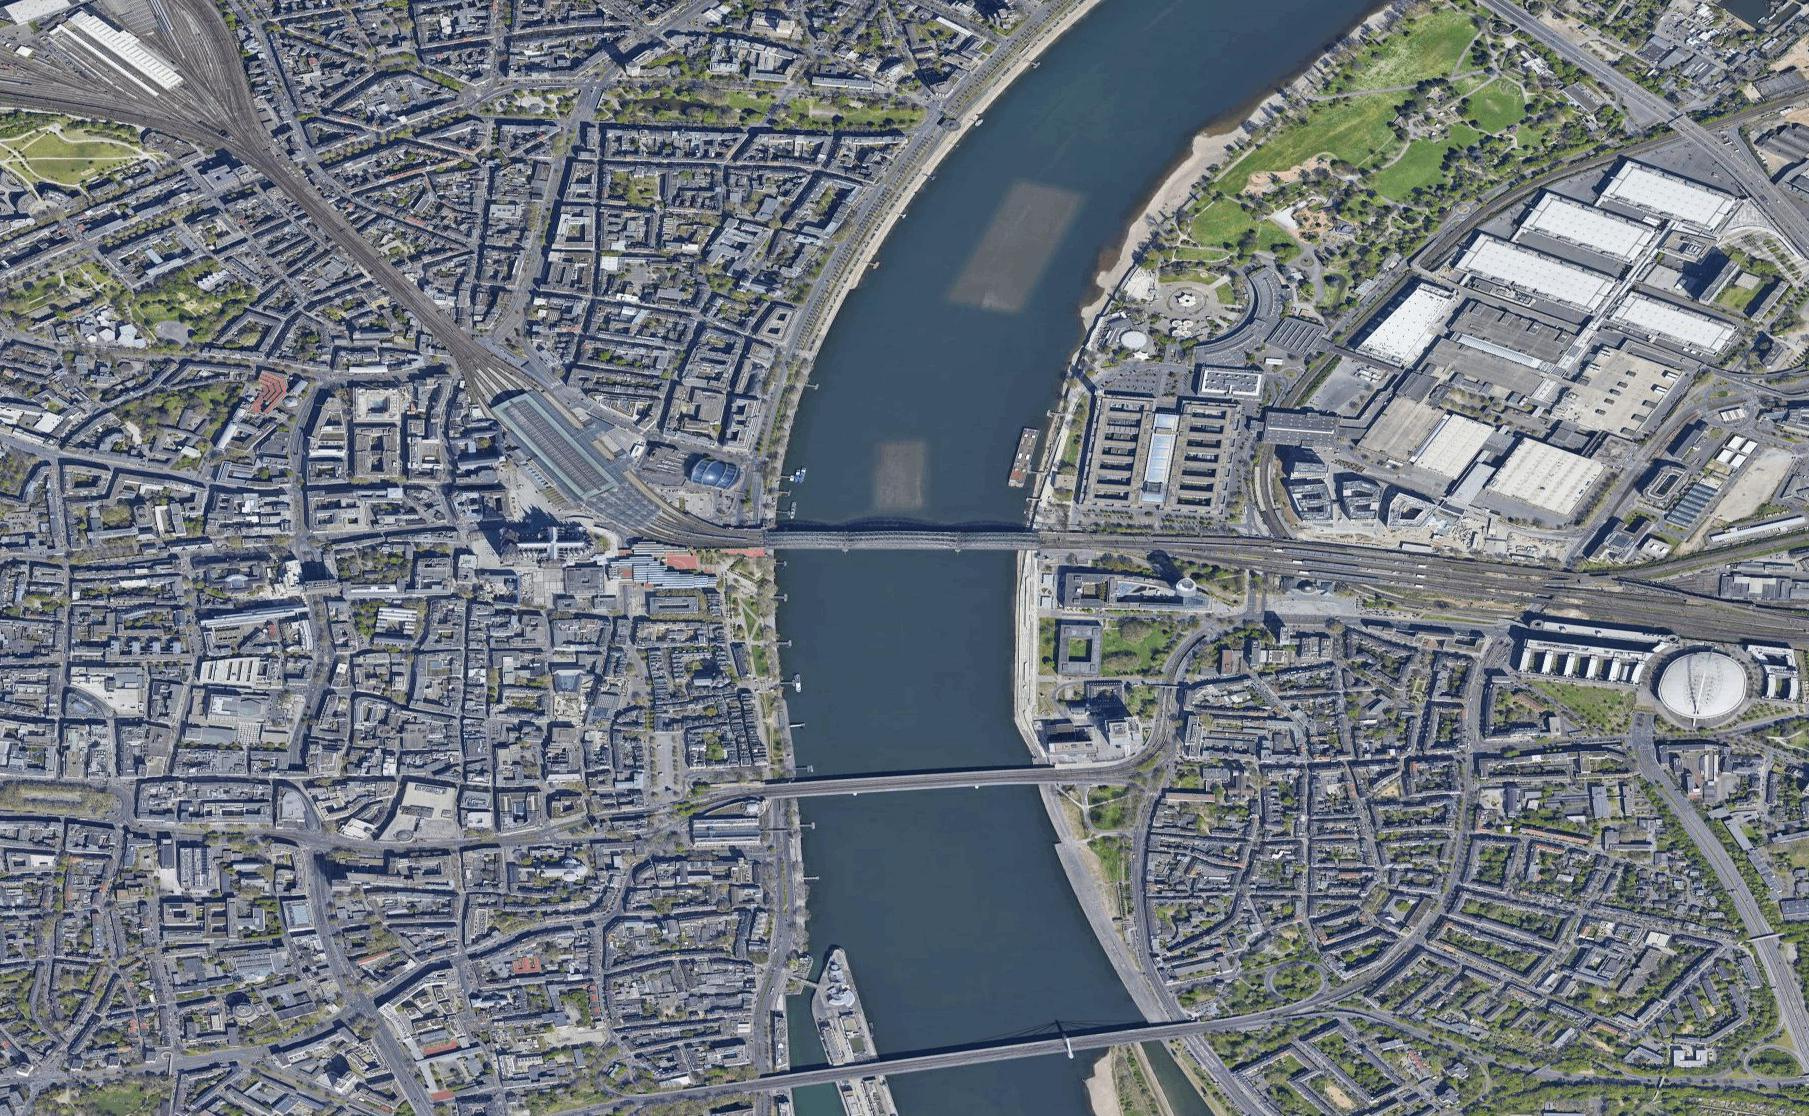bridge: (774, 1008, 1175, 1093), (764, 508, 1038, 564), (779, 753, 1054, 800)
train_station: (454, 353, 645, 535)
